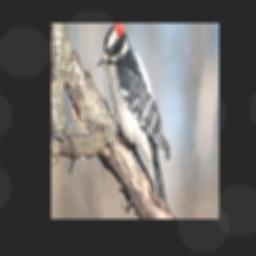Woodpecker: (95, 24, 171, 207)
